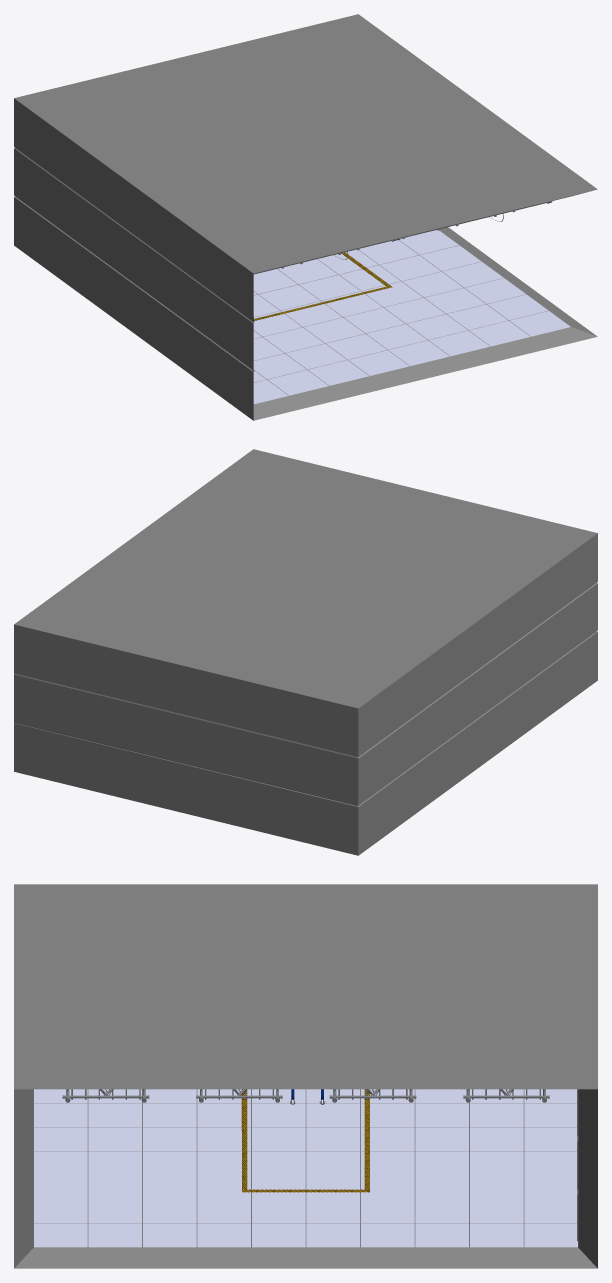
The model's file is garage.glb.
3 views of the same model, one above another, from view 1: azimuth 30°, elevation 25°; view 2: azimuth 150°, elevation 25°; view 3: azimuth 270°, elevation 25° (orthographic). The views are drawn at different scales.
Visible parts, largest first — view 1: Object_17, Object_20, Object_28; view 2: Object_17; view 3: Object_17, Object_20, Object_28, Object_22.
Part boxes in pixels (x1,y1,x2,y2): Object_17: (14,14,597,420); Object_20: (253,230,570,404); Object_28: (254,252,392,320); Object_17: (14,449,597,855); Object_17: (14,884,597,1268); Object_20: (34,1089,577,1247); Object_28: (241,1089,369,1192); Object_22: (62,1089,549,1102).
Size of the model in its own units: 7.53 by 3.08 by 9.07.
16 materials, 2 textured.
